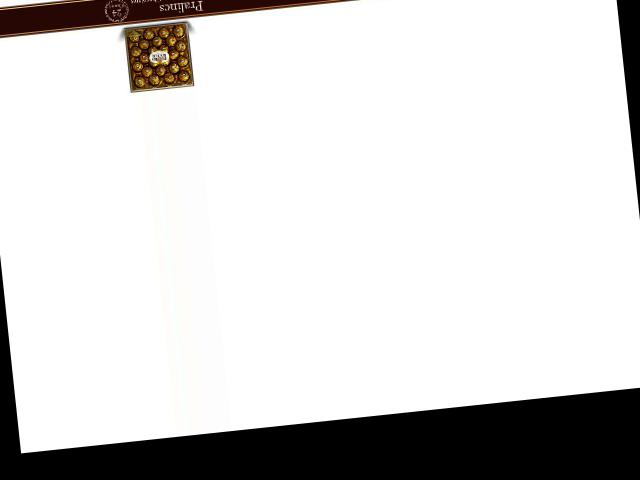chocolate: (119, 18, 197, 97)
